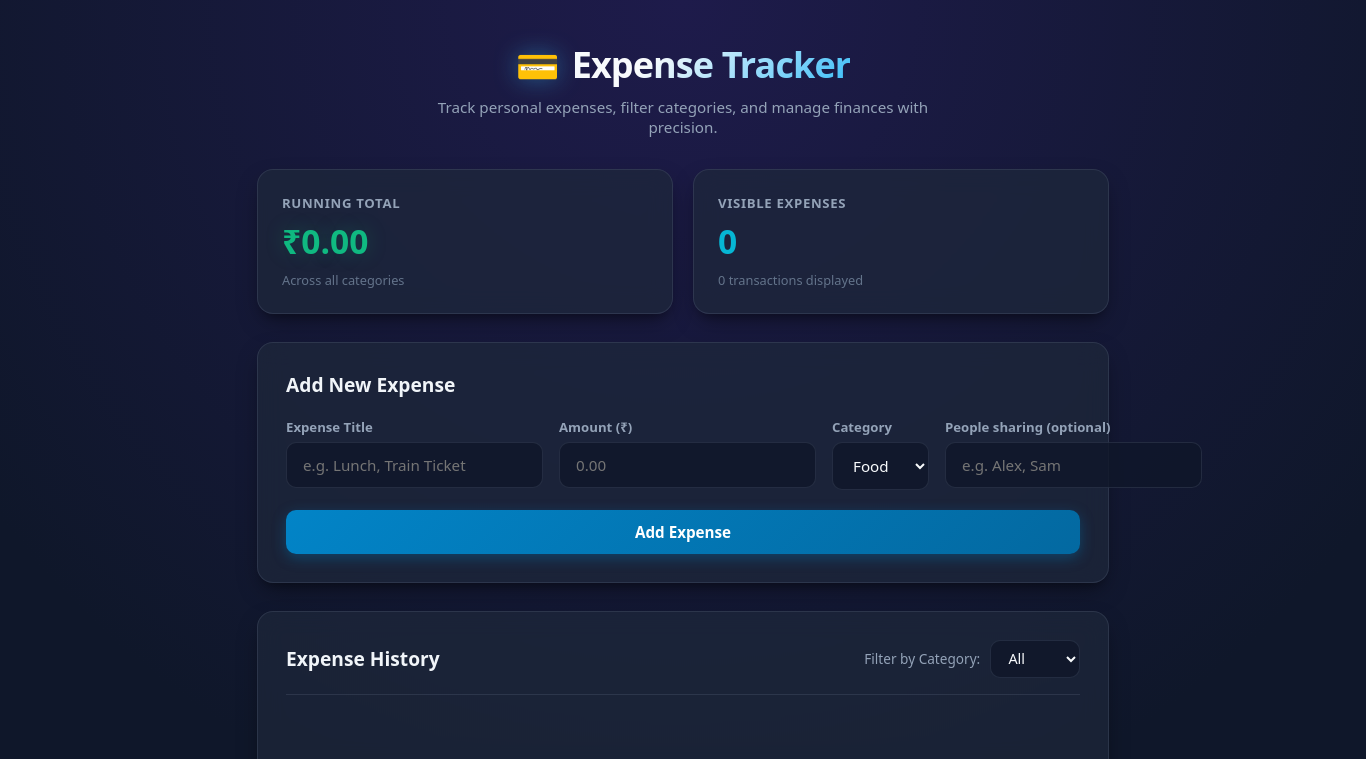
Test: Expense tracker - Input validation › rejects a negative amount and does not add a row
Type "Refund Test" into the field with test id "title" at (415, 465), box [286, 442, 543, 488]
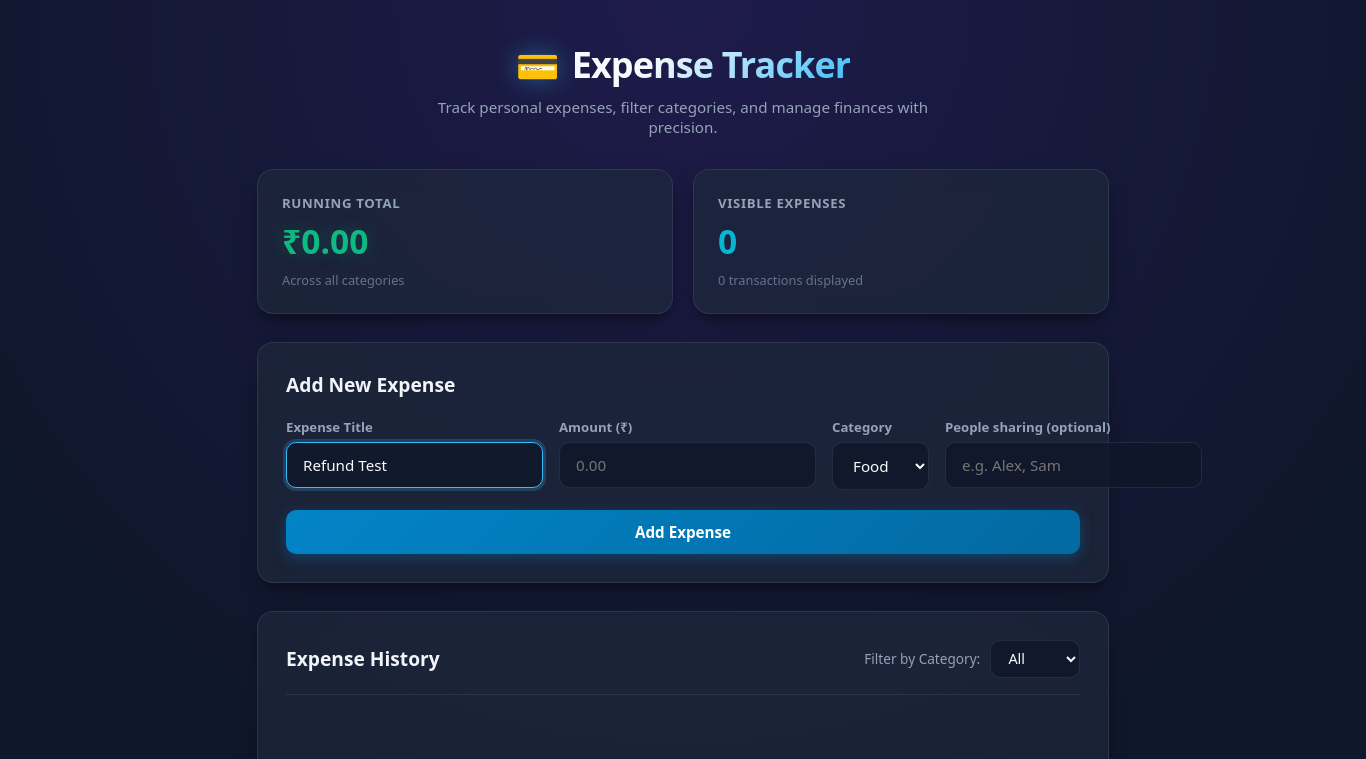
Type "-50" into the number field with test id "amount" at (688, 465), box [559, 442, 816, 488]
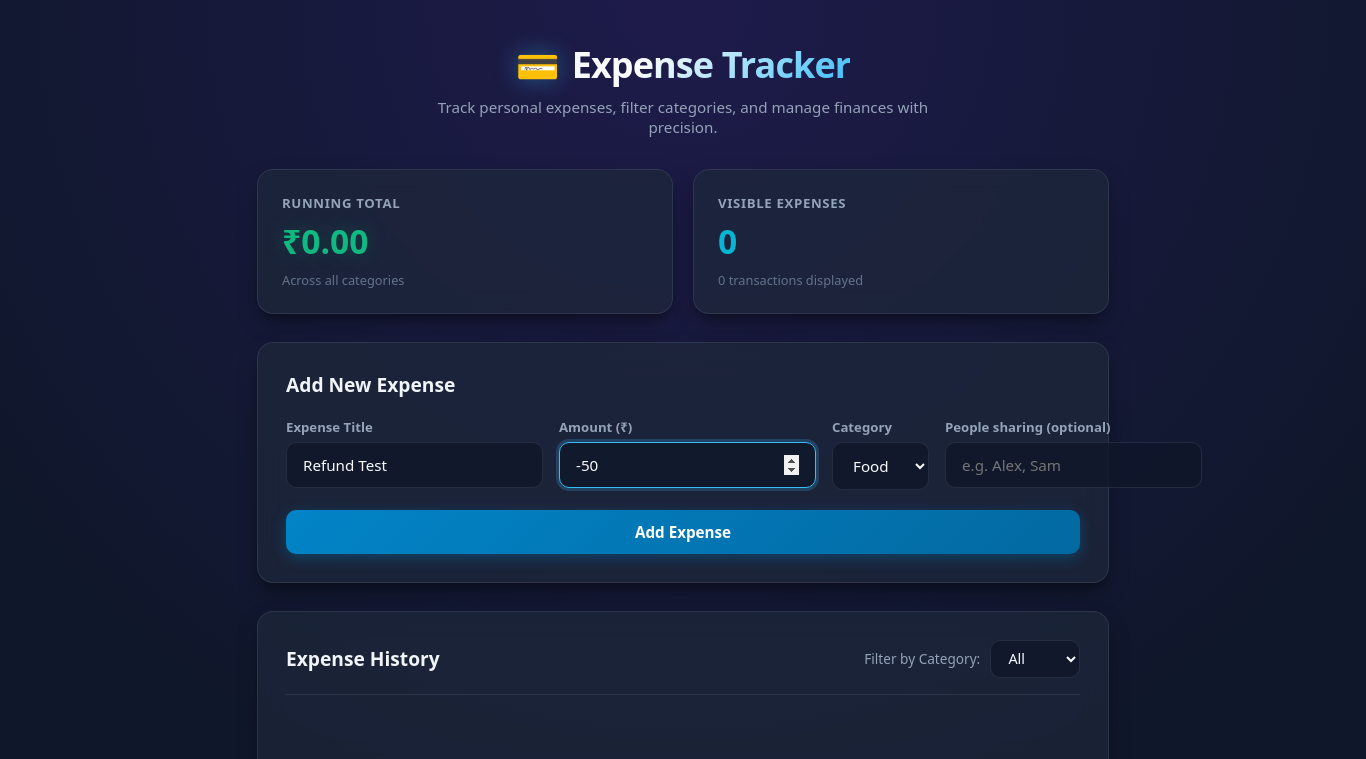
Select "Other" in the dropdown with test id "category" at (881, 466), box [832, 442, 929, 490]
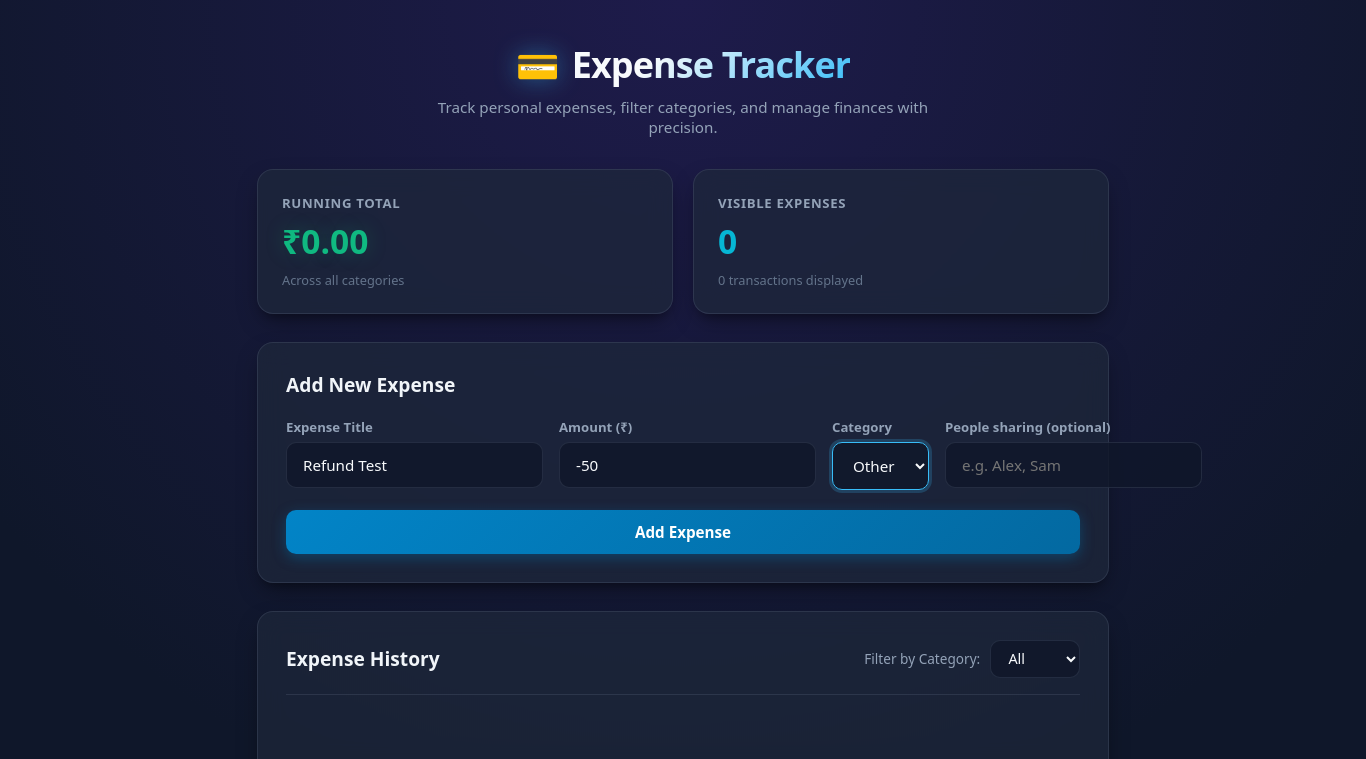
Click the button with test id "add-expense" at (683, 532), box [286, 510, 1080, 554]
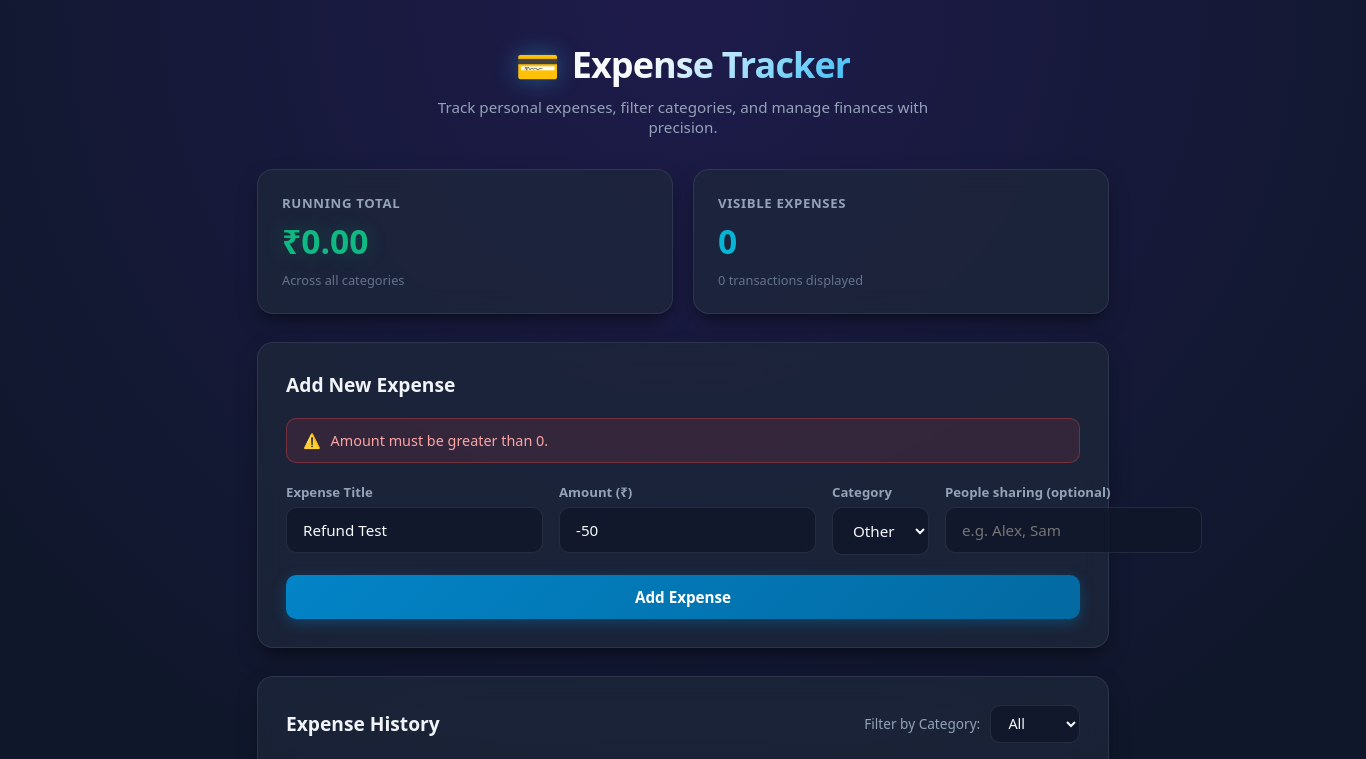
Expected: the text with test id "count" reads "0", [718, 218, 737, 264]
Result: the message "⚠️ Amount must be greater than 0." is shown at [286, 418, 1080, 463]
Result: the text with test id "error-message" shows "Amount must be greater than 0" at [331, 431, 549, 450]
